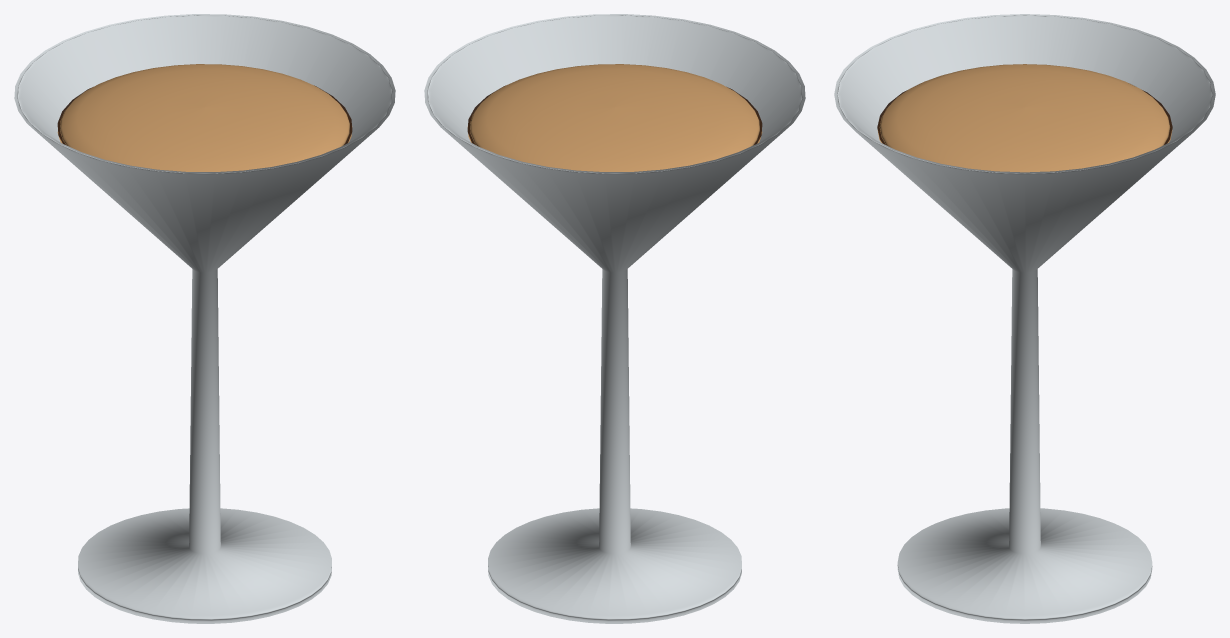
File: alba-caffe-shakerato.glb
The picture shows the model from 3 angles, left to right: view 1: azimuth 30°, elevation 25°; view 2: azimuth 150°, elevation 25°; view 3: azimuth 270°, elevation 25°; orthographic projection.
Size of the model in its own units: 0.12 by 0.165 by 0.12.
